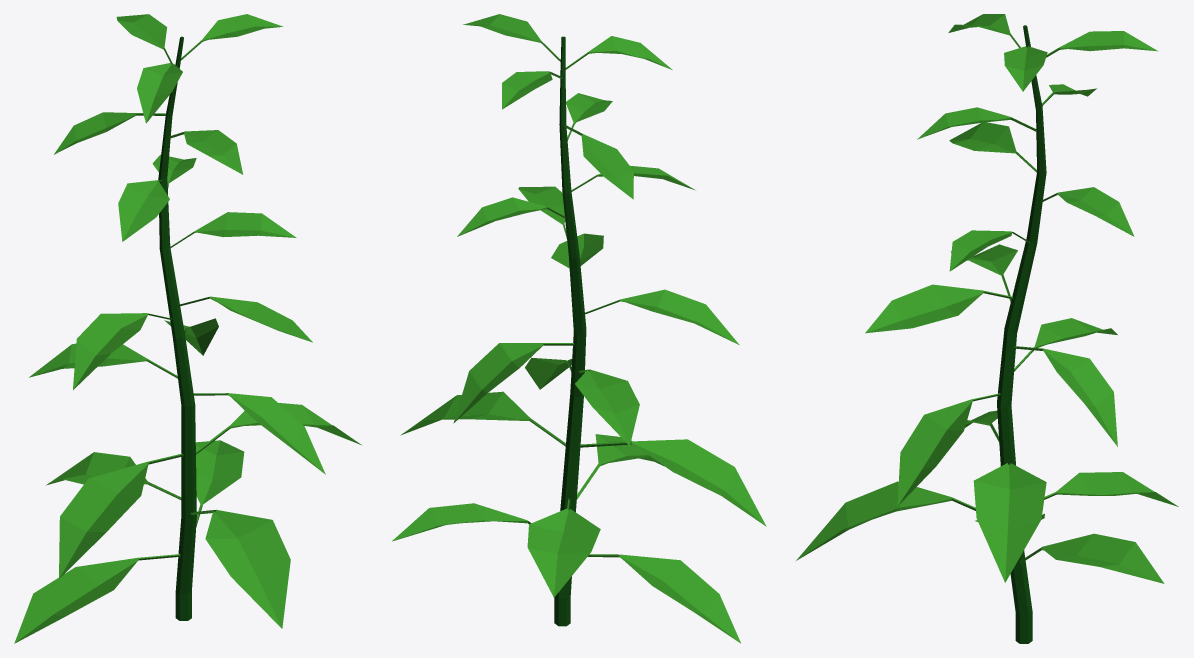
File: plantsBush.fbx
3 views of the same model, side by side, from view 1: azimuth 30°, elevation 25°; view 2: azimuth 150°, elevation 25°; view 3: azimuth 270°, elevation 25° (orthographic). The views are drawn at different scales.
Visible parts, largest first — view 1: Cylinder; view 2: Cylinder; view 3: Cylinder.
Part boxes in pixels (left/top/right/bottom): Cylinder: left=14, top=14, right=361, bottom=643; Cylinder: left=392, top=14, right=766, bottom=643; Cylinder: left=796, top=14, right=1178, bottom=643.
Size of the model in its own units: 95.96 by 155 by 87.91.
